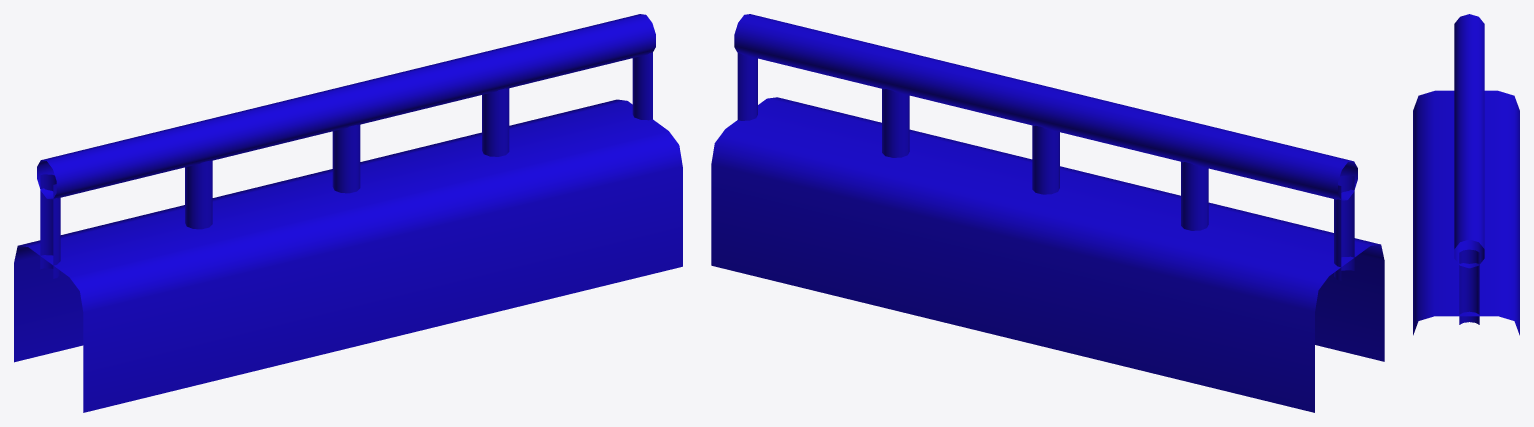
The model's file is SM_Railing.fbx.
3 views of the same model, side by side, from view 1: azimuth 30°, elevation 25°; view 2: azimuth 150°, elevation 25°; view 3: azimuth 270°, elevation 25° (orthographic). The views are drawn at different scales.
Visible parts, largest first — view 1: SM_Railing; view 2: SM_Railing; view 3: SM_Railing.
Part boxes in pixels (x1,y1,x2,y2): SM_Railing: [14, 14, 682, 412]; SM_Railing: [711, 14, 1384, 412]; SM_Railing: [1413, 14, 1519, 335].
Size of the model in its own units: 500 by 179 by 100.
